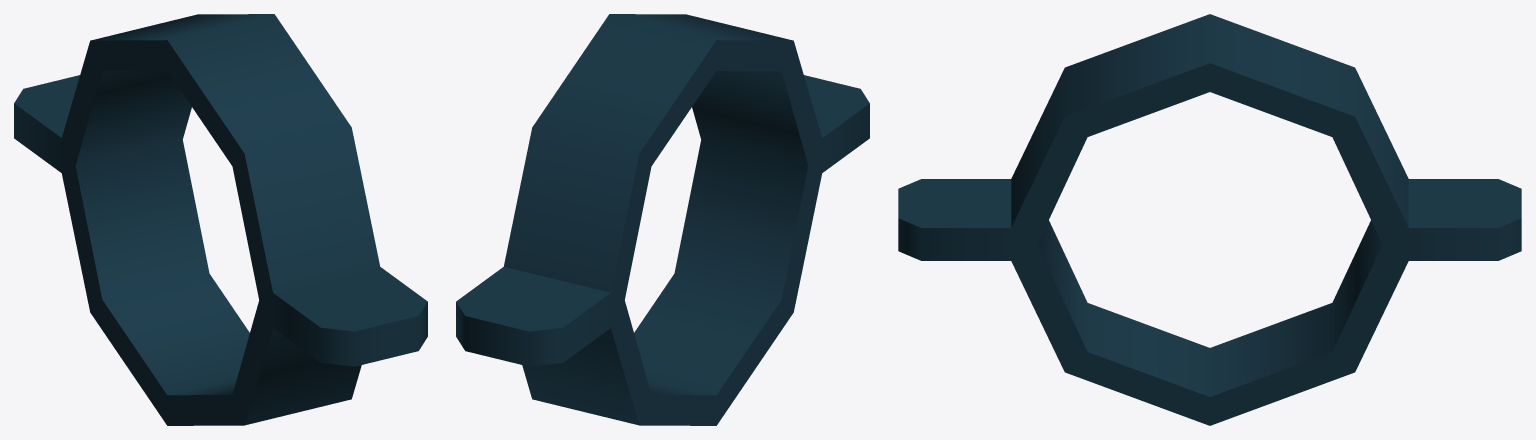
File: PipeHolder_Ring01_Small.fbx
3 views of the same model, side by side, from view 1: azimuth 30°, elevation 25°; view 2: azimuth 150°, elevation 25°; view 3: azimuth 270°, elevation 25° (orthographic). The views are drawn at different scales.
Parts seen in each view (by area): view 1: PipeHolder_Ring01_Small.001; view 2: PipeHolder_Ring01_Small.001; view 3: PipeHolder_Ring01_Small.001.
Boxes of the visible parts, box(x1,y1,x2,y2) form: PipeHolder_Ring01_Small.001: box(14, 14, 427, 425); PipeHolder_Ring01_Small.001: box(456, 14, 869, 425); PipeHolder_Ring01_Small.001: box(898, 14, 1521, 425).
Size of the model in its own units: 0.032 by 0.1101 by 0.1716.
